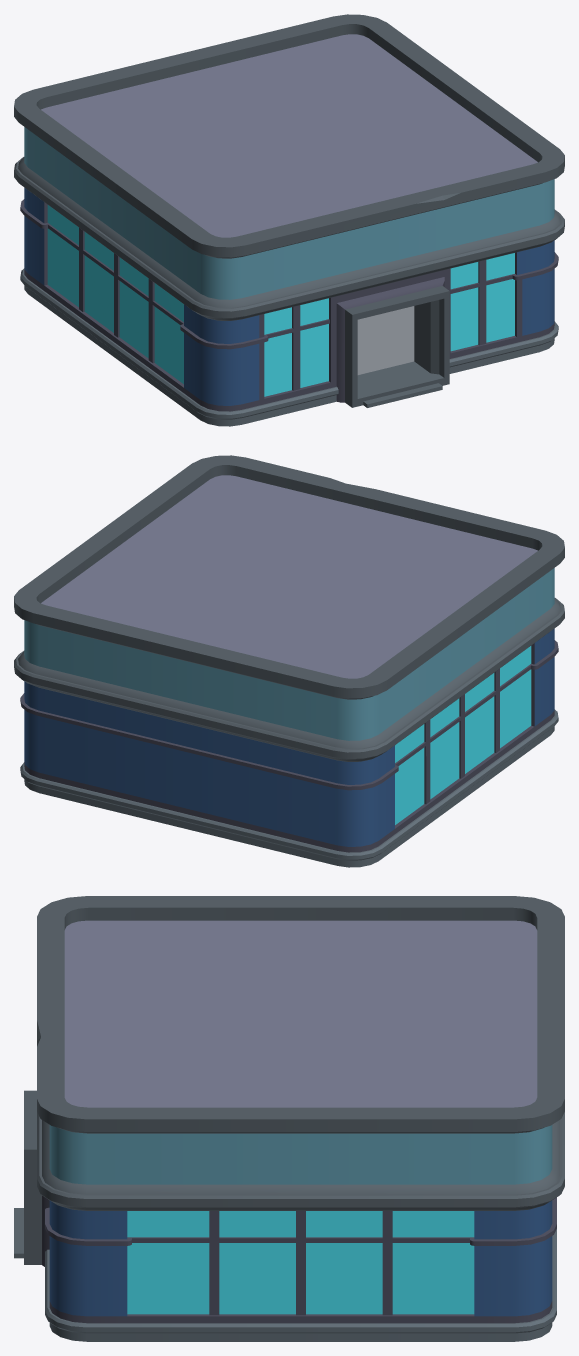
The model's file is SM_Buildings_Commercial_03.fbx.
3 renders of one model, top to bottom at view 1: azimuth 30°, elevation 25°; view 2: azimuth 150°, elevation 25°; view 3: azimuth 270°, elevation 25°, orthographic. The views are drawn at different scales.
Visible parts, largest first — view 1: SM_Buildings_Commercial_03; view 2: SM_Buildings_Commercial_03; view 3: SM_Buildings_Commercial_03.
Part boxes in pixels (box(x1,y1,x2,y2)): SM_Buildings_Commercial_03: box(14, 14, 564, 426); SM_Buildings_Commercial_03: box(14, 455, 564, 867); SM_Buildings_Commercial_03: box(14, 896, 564, 1341).
Bounding box in the file's own units: 10.5 × 5 × 10.96.
